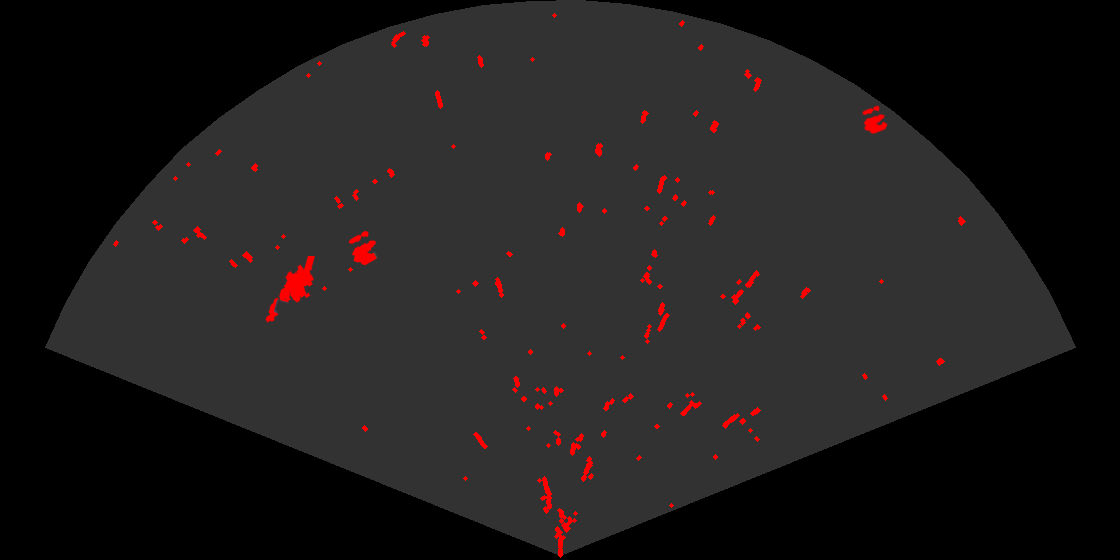ball: (347, 229, 378, 267), (860, 104, 889, 136)
frogman: (264, 256, 316, 324)
